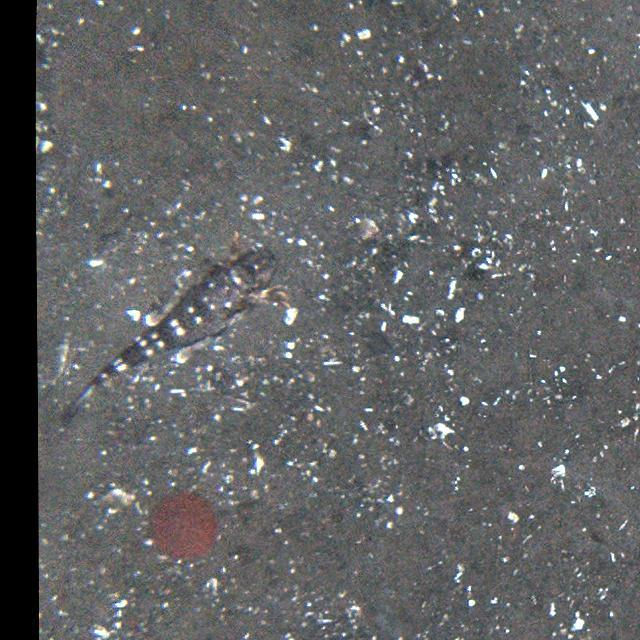roundfish: (57, 247, 294, 429)
